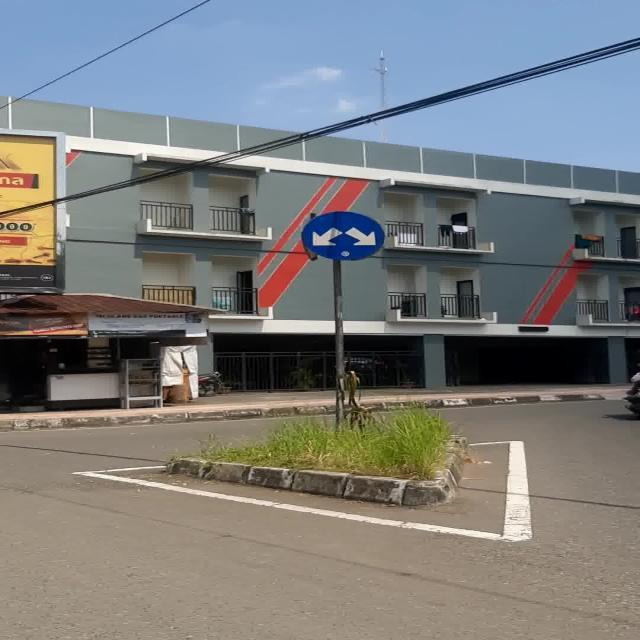Pilih Salah Satu Jalur: (302, 212, 384, 260)
